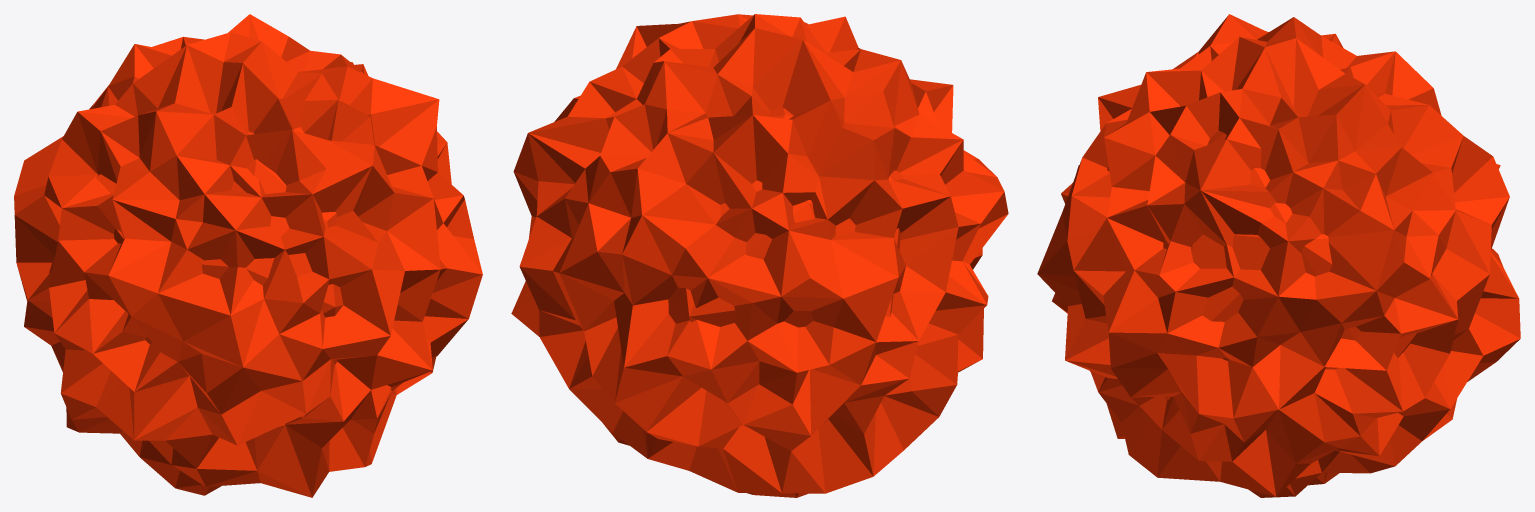
Rendered from Coral 1 naranjo.fbx.
The picture shows the model from 3 angles, left to right: view 1: azimuth 30°, elevation 25°; view 2: azimuth 150°, elevation 25°; view 3: azimuth 270°, elevation 25°; orthographic projection. The views are drawn at different scales.
Visible parts, largest first — view 1: Cube; view 2: Cube; view 3: Cube.
Part boxes in pixels (x1,y1,x2,y2): Cube: (14, 14, 482, 497); Cube: (511, 14, 1008, 497); Cube: (1037, 14, 1520, 497).
Size of the model in its own units: 220 by 224 by 223.
